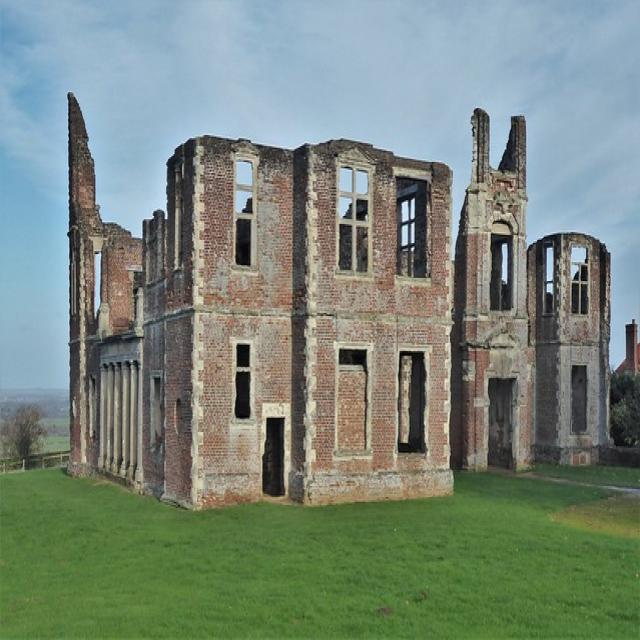Normal_building: (70, 80, 614, 517)
